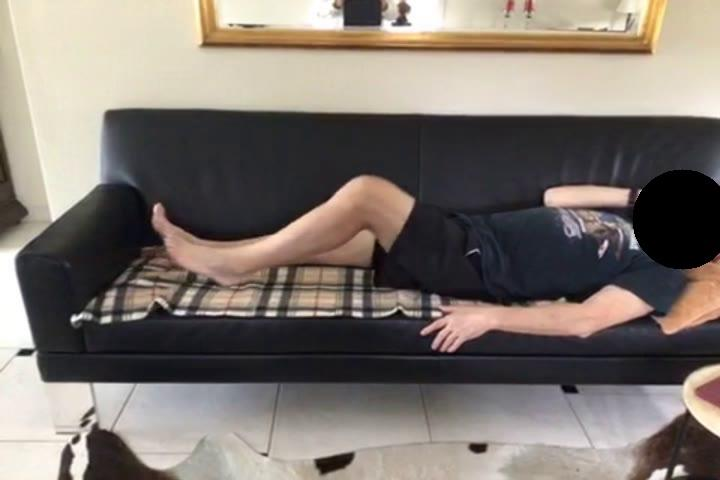lower_body: (152, 174, 506, 304)
